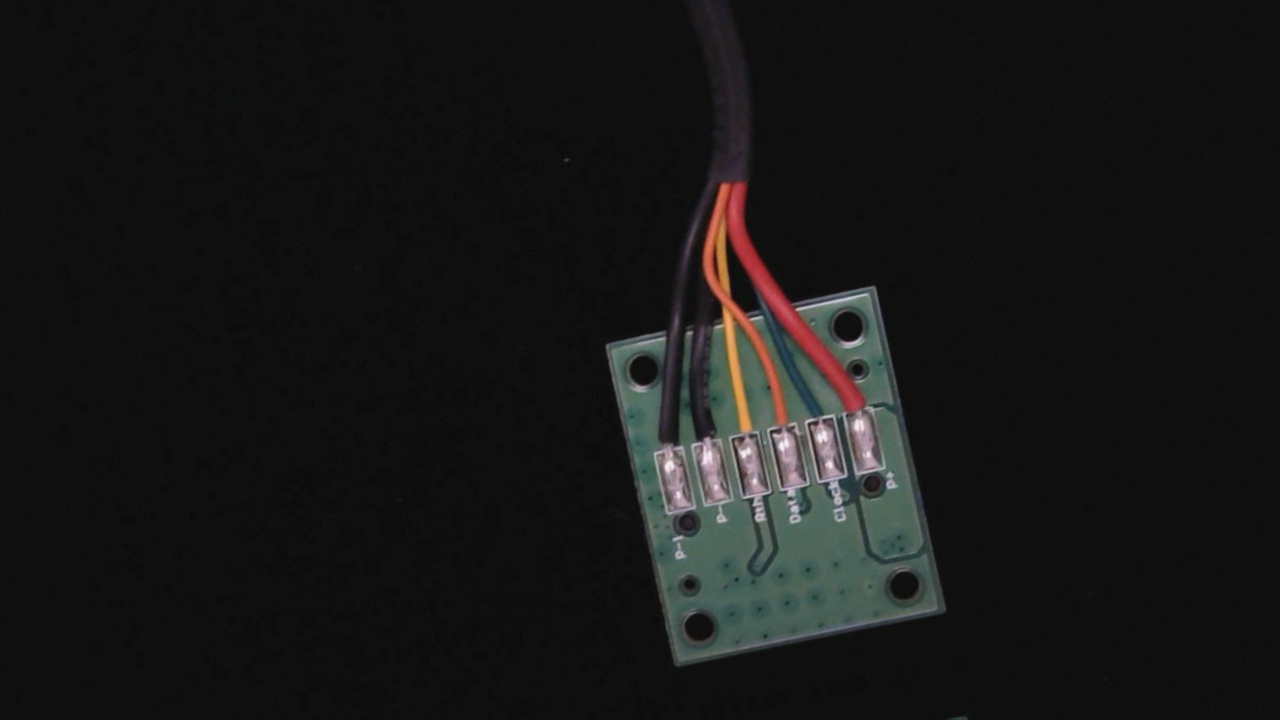Black: (679, 389, 727, 459)
Black1: (640, 396, 685, 469)
Green: (797, 375, 837, 438)
Orange: (758, 378, 800, 444)
Red: (833, 365, 876, 428)
Yellow: (719, 381, 763, 452)
